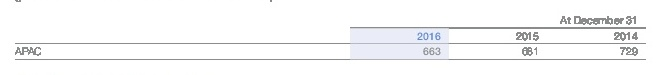table: (0, 0, 666, 75)
